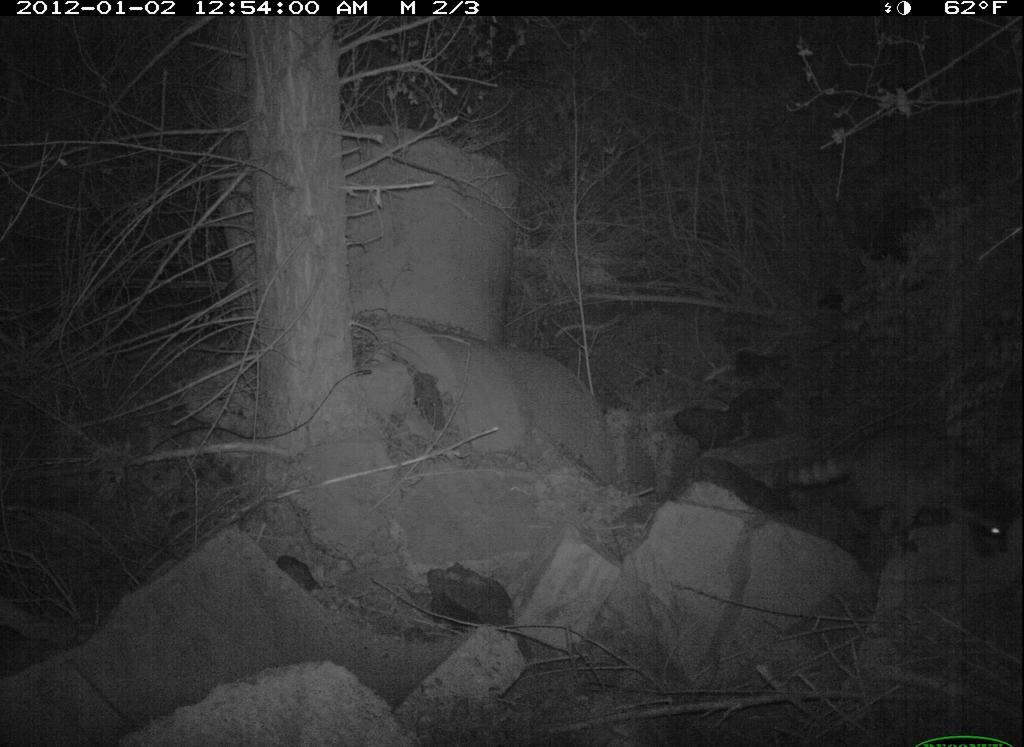raccoon: (788, 417, 1021, 568)
